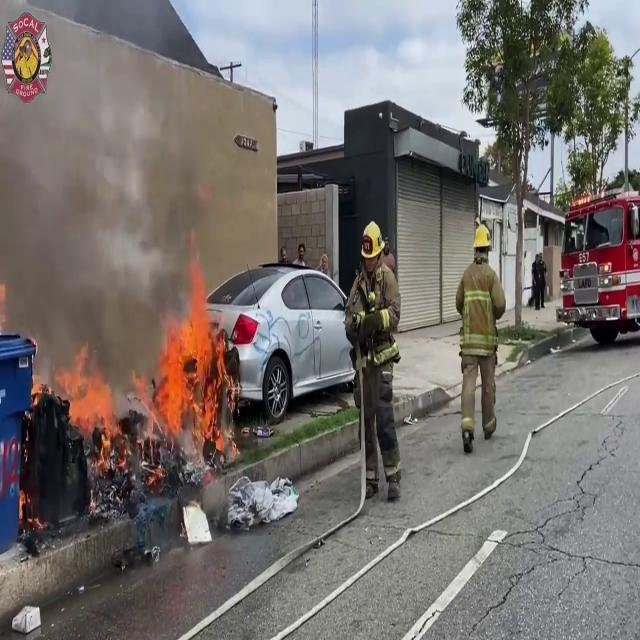Fire: (152, 259, 232, 456), (63, 364, 119, 464)
Smoke: (0, 2, 220, 336)
